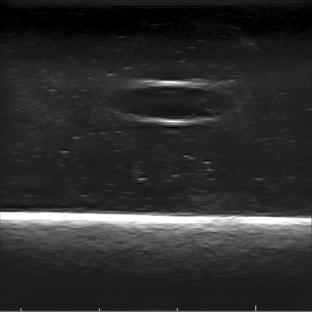vessel: (115, 80, 233, 126)
